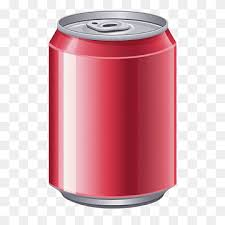can: (49, 10, 177, 208)
